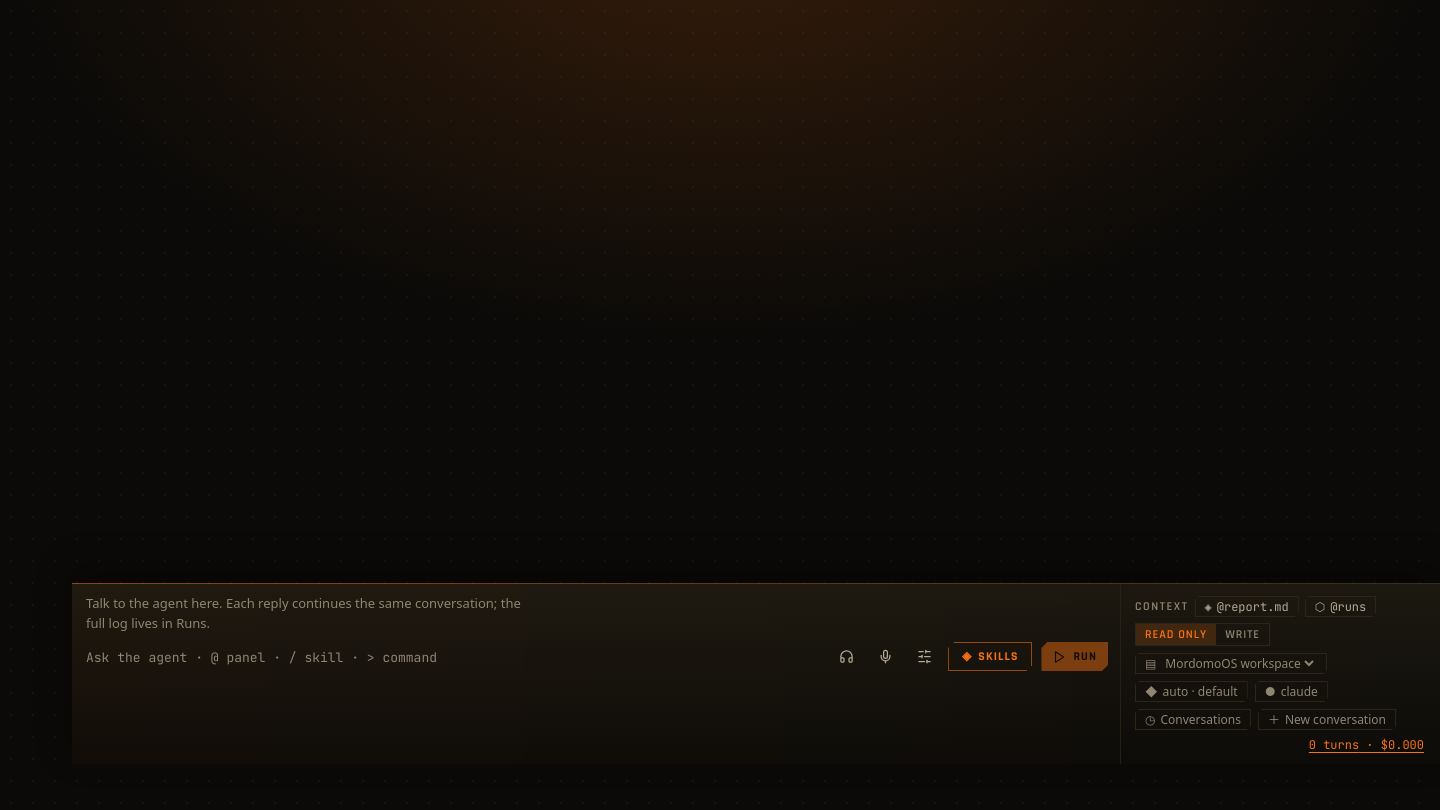
Console › folds its context and controls behind one button
Click the button named "Context and controls" at [924, 656], box [909,641,939,671]
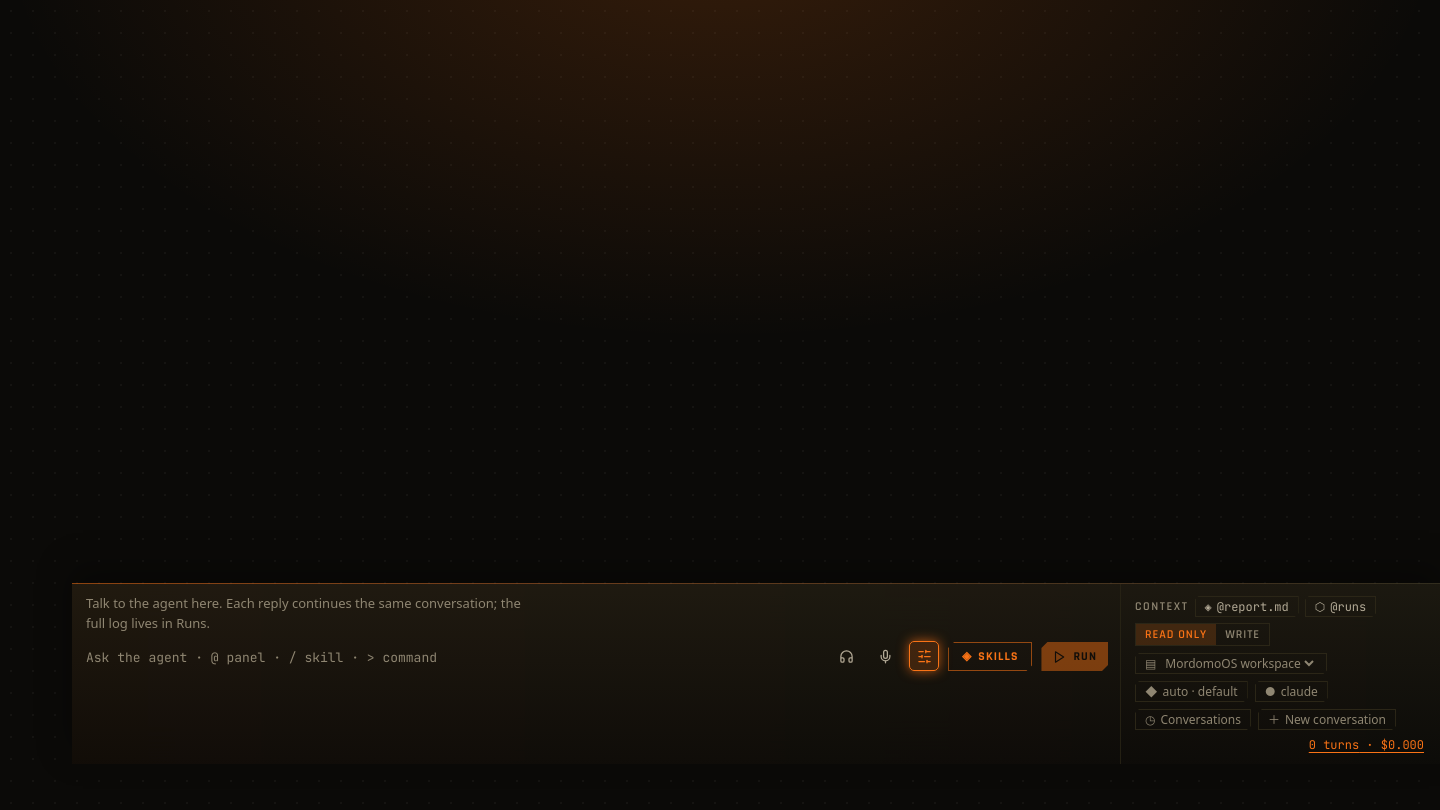
Check: the button named "Context and controls" is expanded, box [909,641,939,671]
